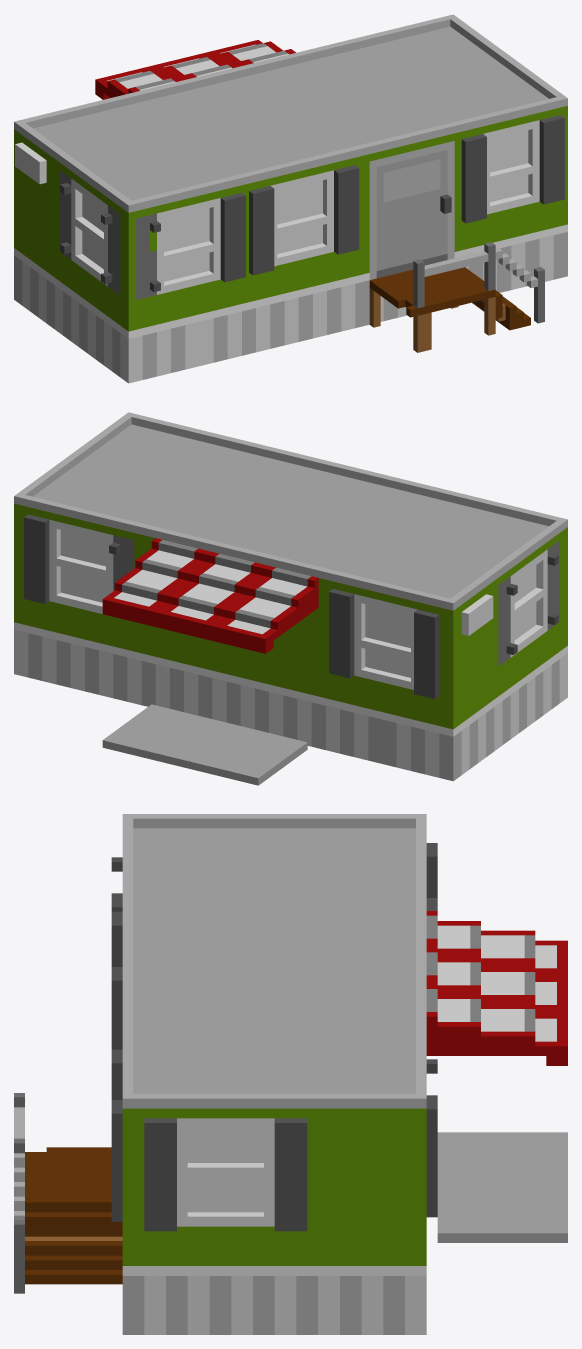
File: obj_house6b.obj
3 views of the same model, one above another, from view 1: azimuth 30°, elevation 25°; view 2: azimuth 150°, elevation 25°; view 3: azimuth 270°, elevation 25° (orthographic). The views are drawn at different scales.
Size of the model in its own units: 6.4 by 2.4 by 5.1.
1 material, 1 textured.
